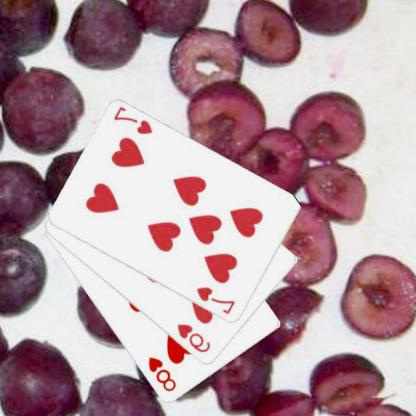6H: (176, 321, 214, 355)
7H: (195, 284, 239, 316), (112, 104, 156, 136)
8H: (147, 354, 180, 394)
